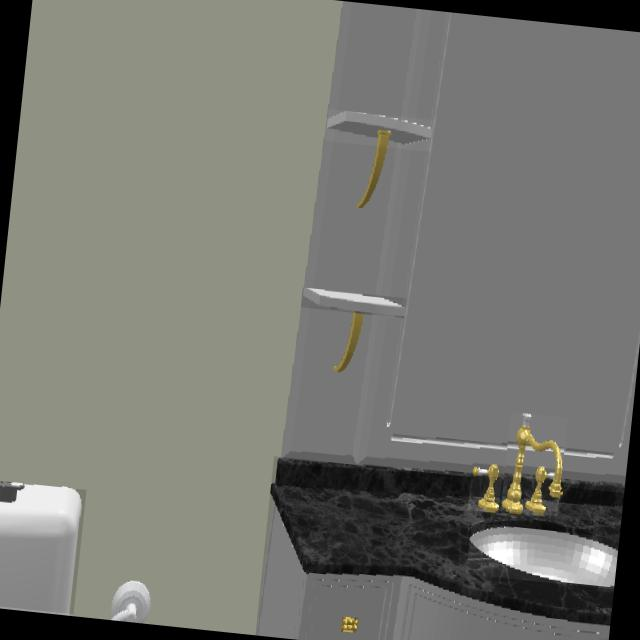cabinet: (257, 460, 622, 640)
shelf: (327, 111, 433, 149), (303, 288, 404, 317)
sink: (469, 527, 617, 588), (500, 414, 562, 511), (471, 464, 498, 511), (525, 468, 547, 516)
toilet: (0, 482, 83, 614)
